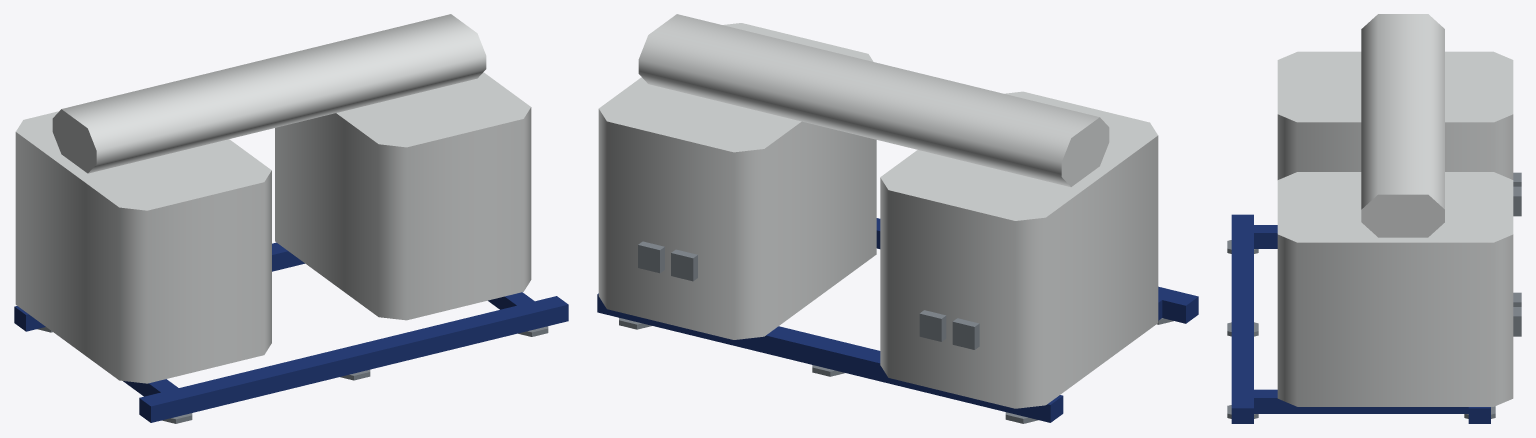
File: l20_frame.obj
The picture shows the model from 3 angles, left to right: view 1: azimuth 30°, elevation 25°; view 2: azimuth 150°, elevation 25°; view 3: azimuth 270°, elevation 25°; orthographic projection. The views are drawn at different scales.
Visible parts, largest first — view 1: l20_frame; view 2: l20_frame; view 3: l20_frame.
Part boxes in pixels (x1,y1,x2,y2): l20_frame: (14, 14, 568, 423); l20_frame: (597, 14, 1198, 423); l20_frame: (1227, 14, 1521, 423).
Bounding box in the file's own units: 3.29 × 1.8 × 2.11.
